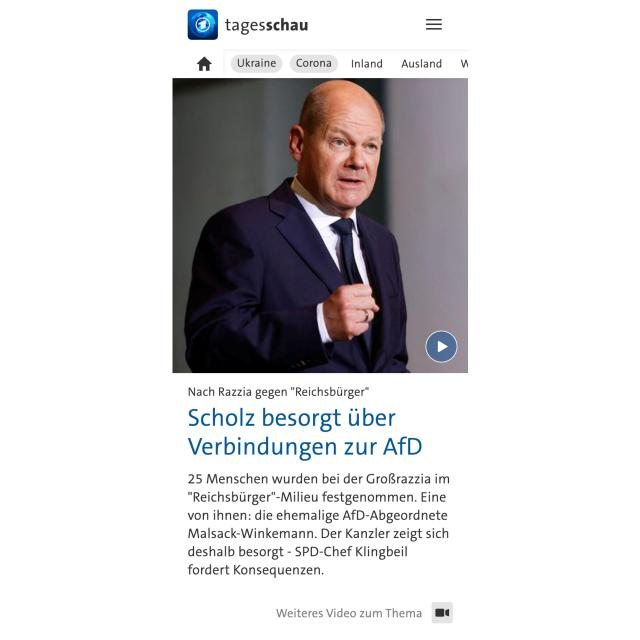logo: (186, 7, 221, 43)
navigation: (227, 52, 474, 74), (422, 10, 447, 38)
